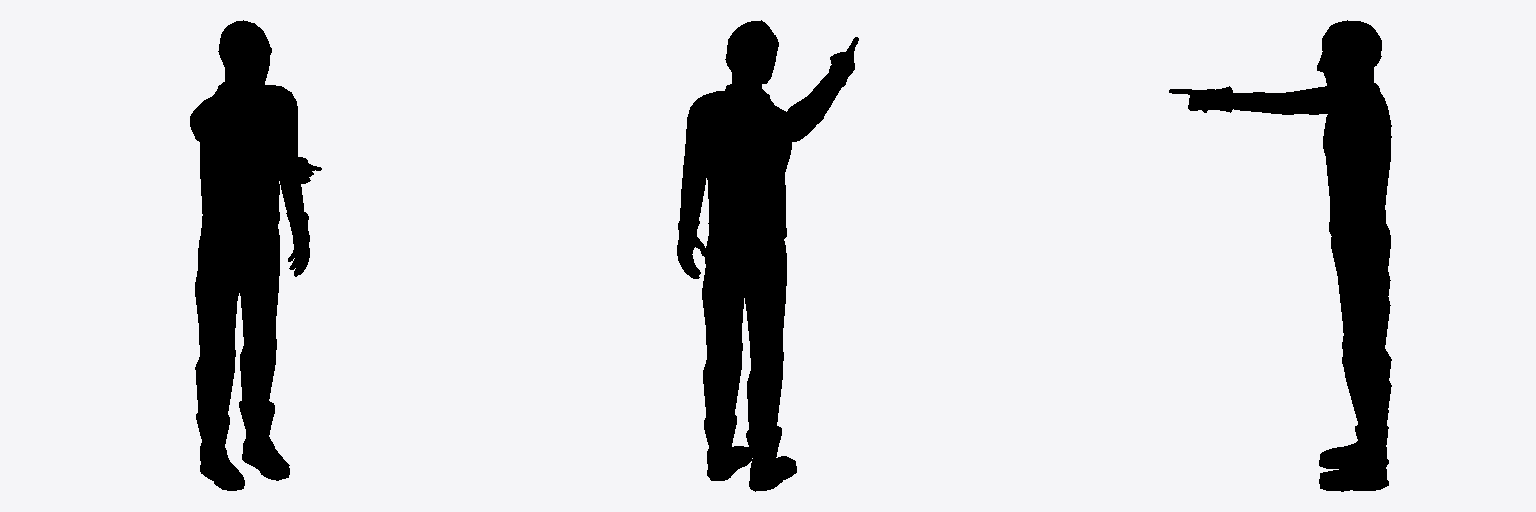
URDF robot description (victim):
<?xml version="1.0"?>
  <robot name="victim">
 <material name="Black">
    <color rgba="0 0 0 1"/>
  </material>
<link name="base_link">
  <visual>
    <!-- <origin xyz="-4 -3 0"/> -->
    <geometry>
      <mesh filename="package://world_model_description/meshes/operator.dae"/>
    </geometry>
    <material name="Black"/>
  </visual> 
  
  <collision>
    <geometry>
      <mesh filename="package://world_model_description/meshes/operator.dae"/>
    </geometry>
    <material name="Black"/>
  </collision>
  
<!-- <collision>-->
      <!--<origin xyz="-4 -3 0"/> -->     
<!--       <geometry>
       <box size="1 1 2"/>
       </geometry>
 </collision>
<collision>
        <origin xyz="0 0 2.5"/>      
       <geometry>    
        <sphere radius="2"/>
       </geometry>
</collision>-->
 <inertial>
   <mass value="1" />
   <inertia ixx="1.0" ixy="0.0" ixz="0.0" iyy="1.0" iyz="0.0" izz="1.0" />
 </inertial>
</link>

<gazebo>
  <static>true</static>
</gazebo>

  </robot>

--- Facts derived from the render (not from the file) ---
The picture shows the robot from 3 angles, left to right: view 1: azimuth 30°, elevation 25°; view 2: azimuth 150°, elevation 25°; view 3: azimuth 270°, elevation 25°; orthographic projection.
Robot: victim — 1 links, 0 joints (none); root link base_link; default pose: all joints at 0.
Links seen in each view (by area): view 1: base_link; view 2: base_link; view 3: base_link.
Link boxes in pixels (bbox=[...]): base_link: bbox=[190, 20, 321, 490]; base_link: bbox=[677, 20, 858, 491]; base_link: bbox=[1169, 20, 1391, 491].
Size in the robot's own frame: 0.4895 by 0.7793 by 1.74 metres.
Meshes: 1 distinct files referenced, 1 mesh visuals loaded (1 Collada DAE).
